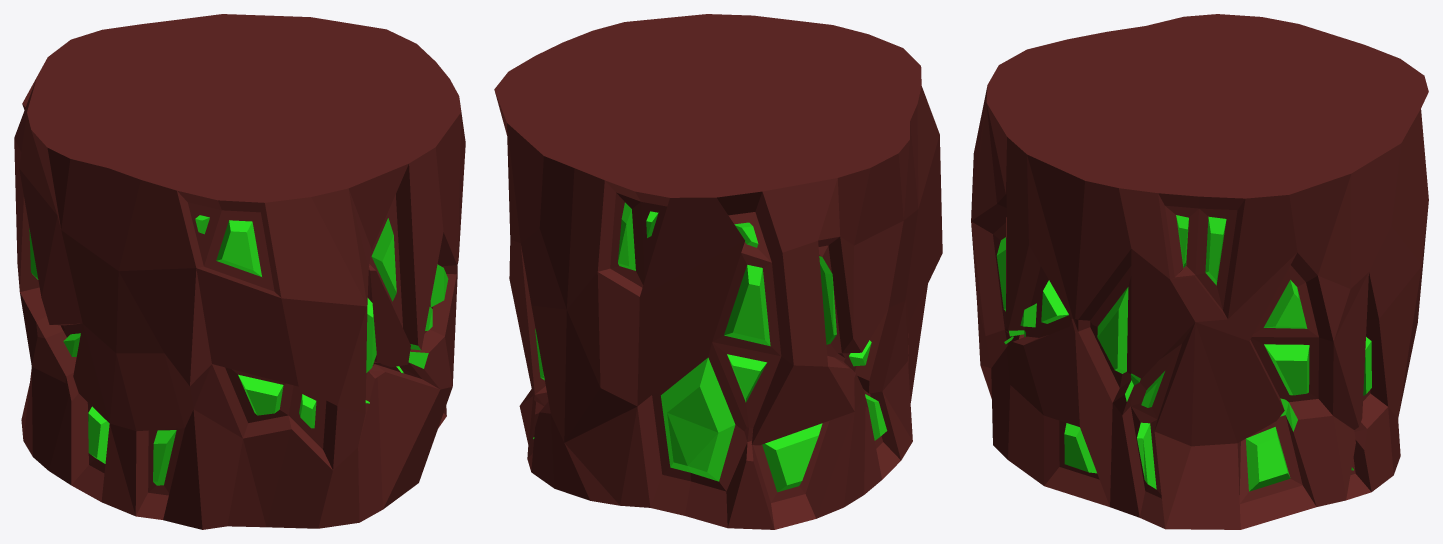
The model's file is Stone_3_2.fbx.
3 views of the same model, side by side, from view 1: azimuth 30°, elevation 25°; view 2: azimuth 150°, elevation 25°; view 3: azimuth 270°, elevation 25° (orthographic).
Visible parts, largest first — view 1: Rock_3_2; view 2: Rock_3_2; view 3: Rock_3_2.
Boxes of the visible parts, left/top/right/bottom form: Rock_3_2: left=14, top=14, right=465, bottom=529; Rock_3_2: left=494, top=14, right=942, bottom=529; Rock_3_2: left=971, top=14, right=1428, bottom=529.
Bounding box in the file's own units: 17.91 × 15 × 18.54.
